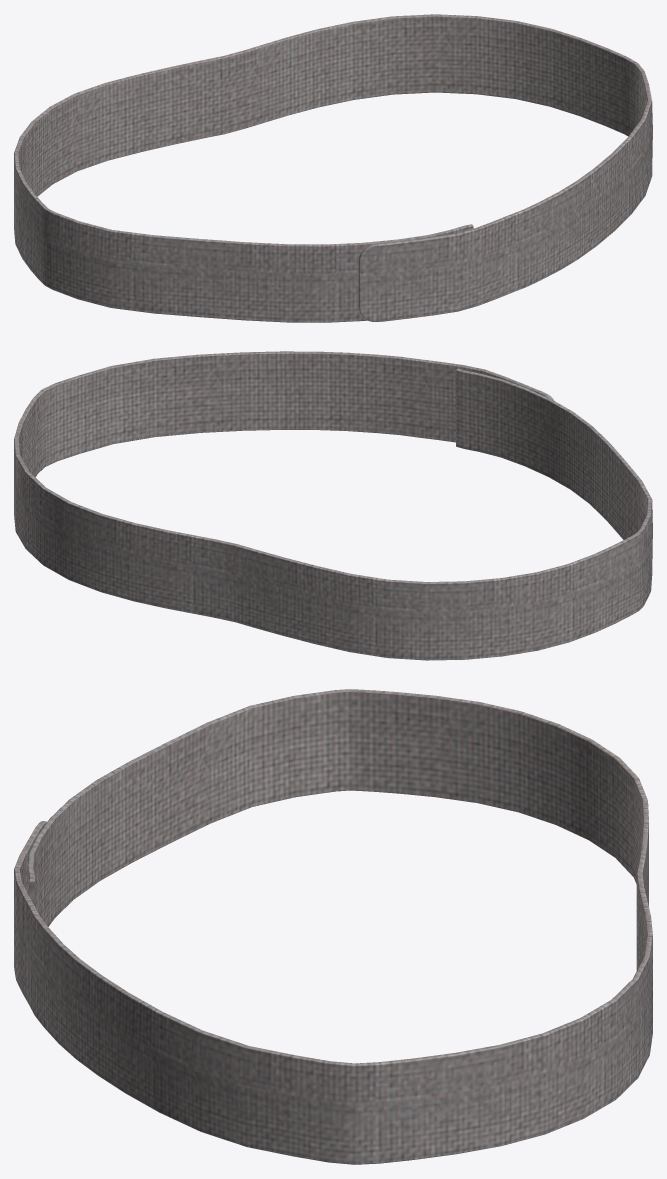
The model's file is 5cm standard_button_.glb.
3 views of the same model, one above another, from view 1: azimuth 30°, elevation 25°; view 2: azimuth 150°, elevation 25°; view 3: azimuth 270°, elevation 25° (orthographic). The views are drawn at different scales.
Visible parts, largest first — view 1: standard_button_5cm; view 2: standard_button_5cm; view 3: standard_button_5cm.
Part boxes in pixels (bbox=[...]): standard_button_5cm: bbox=[14, 14, 652, 322]; standard_button_5cm: bbox=[14, 351, 652, 660]; standard_button_5cm: bbox=[14, 689, 652, 1164].
Bounding box in the file's own units: 0.047 × 0.0058 × 0.0336.
Materials: 1 (1 with a texture image).
